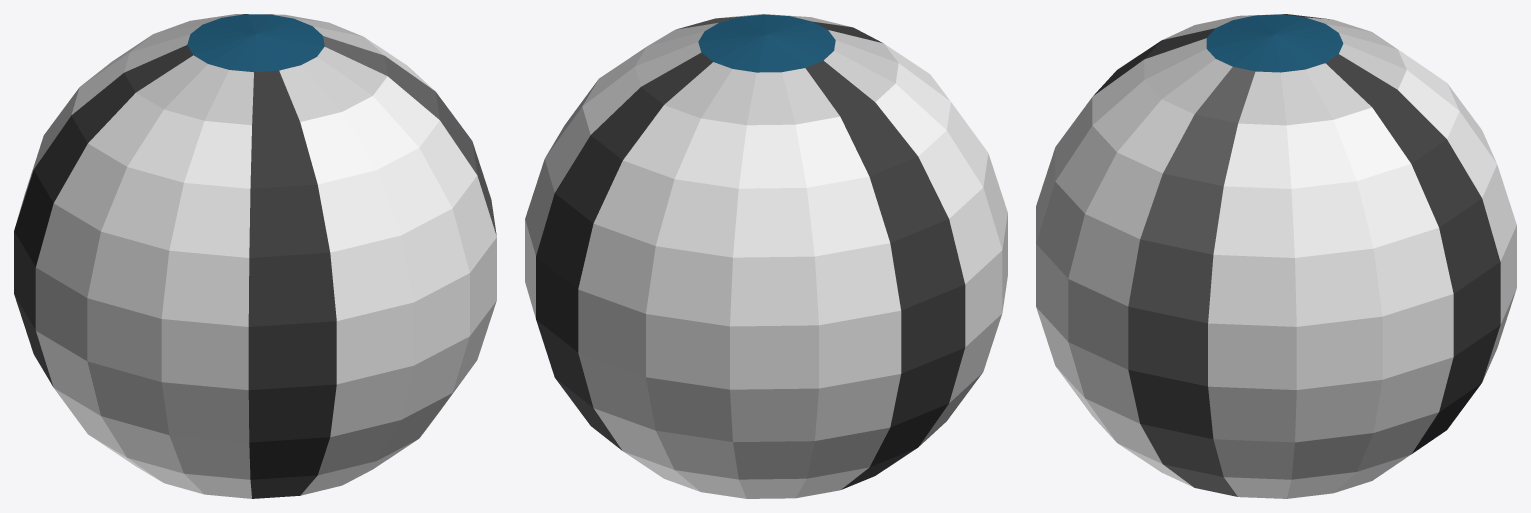
Rendered from simple-sphere.gltf.
3 renders of one model, left to right at view 1: azimuth 30°, elevation 25°; view 2: azimuth 150°, elevation 25°; view 3: azimuth 270°, elevation 25°, orthographic.
Parts seen in each view (by area): view 1: sphere; view 2: sphere; view 3: sphere.
Part boxes in pixels (x1,y1,x2,y2): sphere: [14, 14, 496, 498]; sphere: [525, 14, 1007, 498]; sphere: [1036, 14, 1516, 498].
Size of the model in its own units: 3.94 by 4 by 3.93.
Materials: 1 (1 with a texture image).
